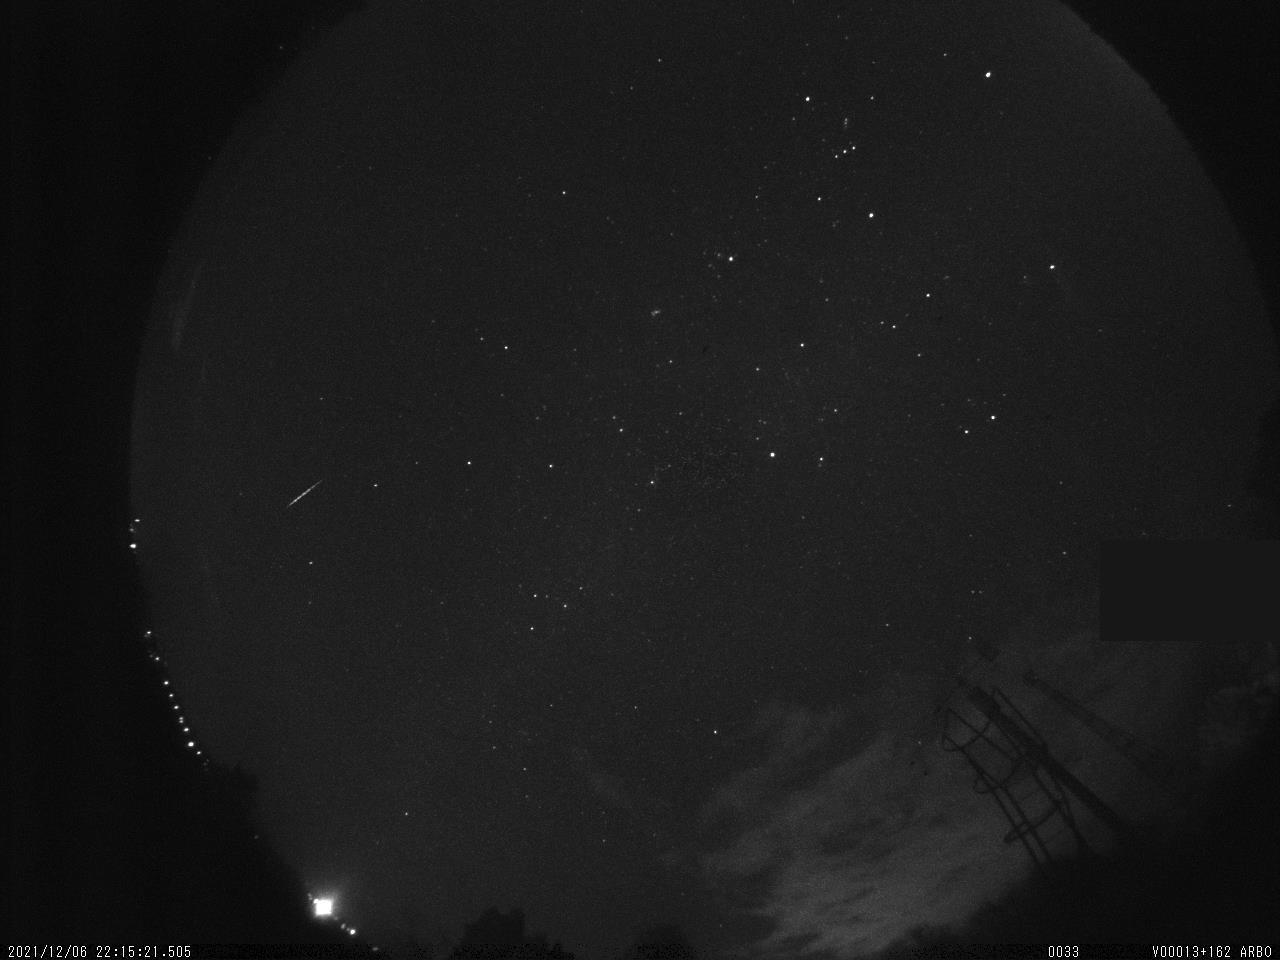meteor: (272, 466, 339, 512)
